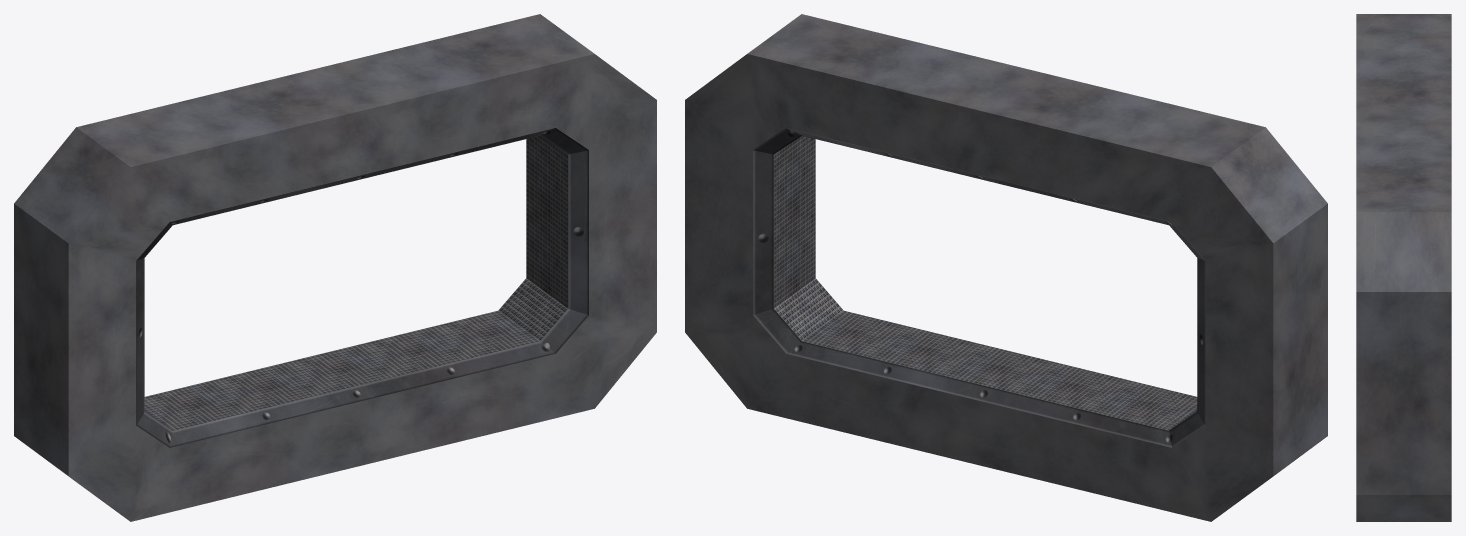
File: Incinerator_Ledge_Accent.fbx
3 renders of one model, left to right at view 1: azimuth 30°, elevation 25°; view 2: azimuth 150°, elevation 25°; view 3: azimuth 270°, elevation 25°, orthographic. The views are drawn at different scales.
Parts seen in each view (by area): view 1: Incinerator_Wall_Accent; view 2: Incinerator_Wall_Accent; view 3: Incinerator_Wall_Accent.
Part boxes in pixels (bbox=[...]): Incinerator_Wall_Accent: bbox=[14, 14, 656, 521]; Incinerator_Wall_Accent: bbox=[685, 14, 1327, 521]; Incinerator_Wall_Accent: bbox=[1356, 14, 1451, 521].
Bounding box in the file's own units: 6.23 × 3.59 × 1.
